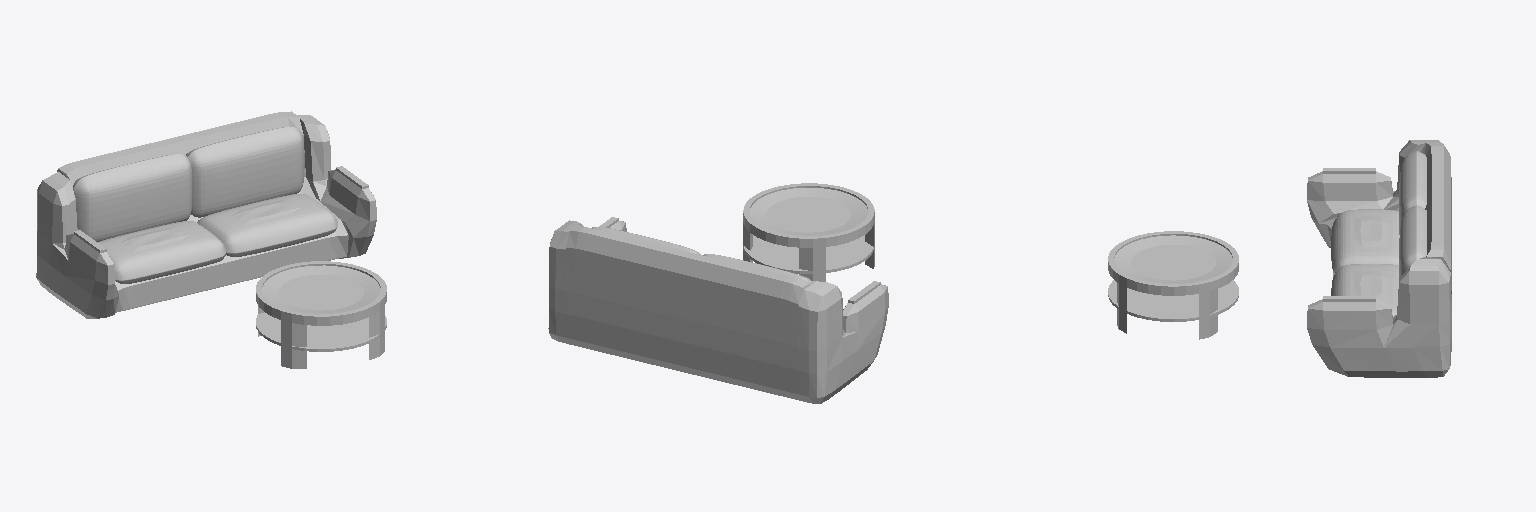
The model's file is Диван столик .obj.
The picture shows the model from 3 angles: view 1: azimuth 30°, elevation 25°; view 2: azimuth 150°, elevation 25°; view 3: azimuth 270°, elevation 25°; orthographic projection.
Visible parts, largest first — view 1: Диван_Cube.001, Столик_Circle; view 2: Диван_Cube.001, Столик_Circle; view 3: Диван_Cube.001, Столик_Circle.
Boxes of the visible parts, <box> form: Диван_Cube.001: <box>36,111,376,318</box>; Столик_Circle: <box>256,261,386,368</box>; Диван_Cube.001: <box>548,217,888,403</box>; Столик_Circle: <box>743,183,874,281</box>; Диван_Cube.001: <box>1307,140,1451,377</box>; Столик_Circle: <box>1108,231,1238,339</box>.
Bounding box in the file's own units: 4.91 × 1.96 × 5.23.